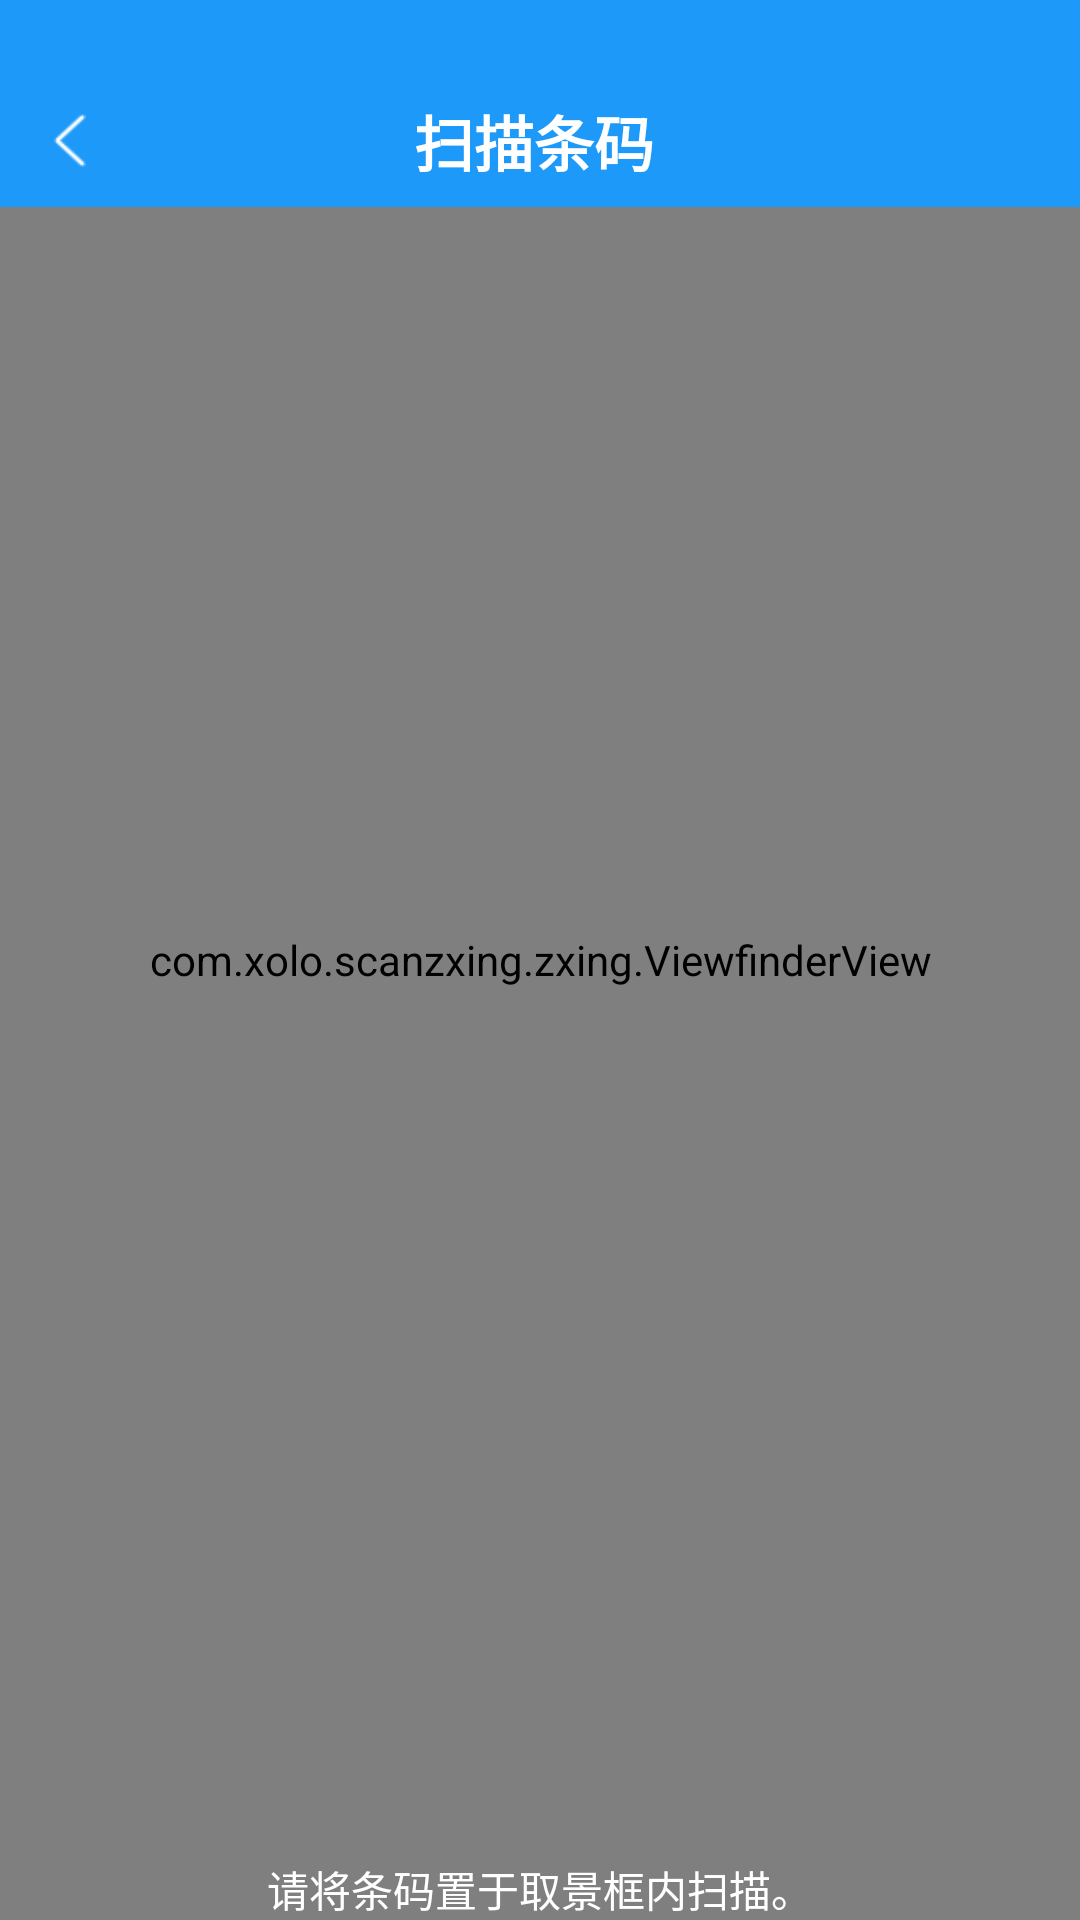

Named icons in this screenshot (1080px x 1920px) and their centers, point (x, y):
back: point (70, 140)
